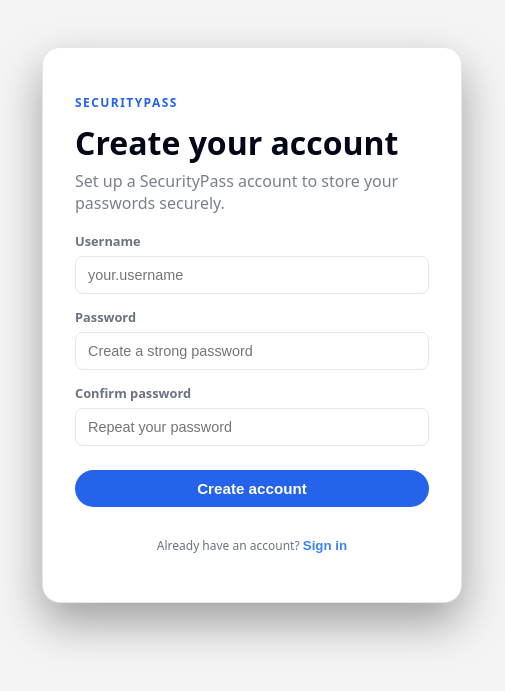
Test: Register Page › shows error when all fields are empty
The width and height of the screenshot is (505, 691).
Step 1. Click the button "Create account" → [252, 488], box 75,470 -> 429,507
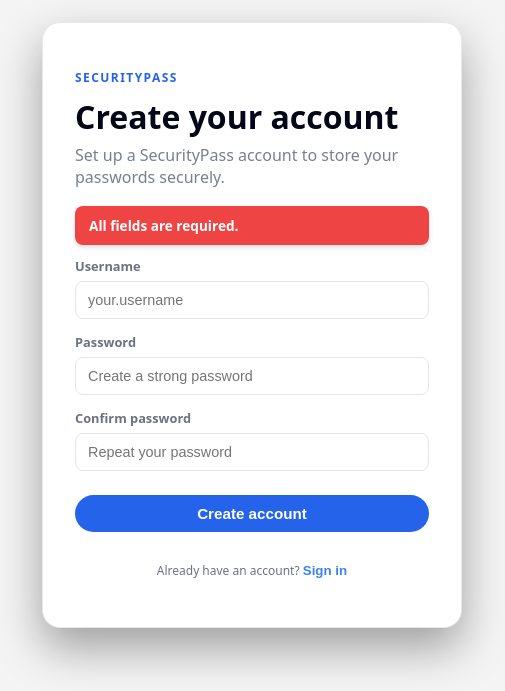
Now the text "All fields are required." is shown, box 75,206 -> 429,246
